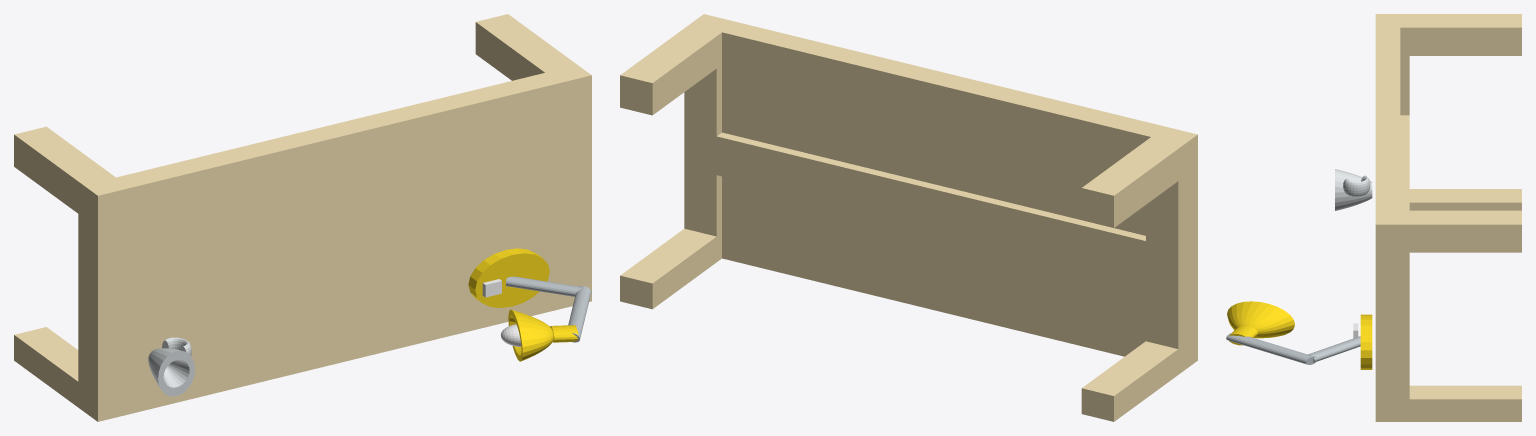
Rendered from tinker.obj.
The picture shows the model from 3 angles, left to right: view 1: azimuth 30°, elevation 25°; view 2: azimuth 150°, elevation 25°; view 3: azimuth 270°, elevation 25°; orthographic projection. The views are drawn at different scales.
Parts seen in each view (by area): view 1: group_0_16311991, group_0_16768282, group_0_14541540, group_0_12568524, group_0_16448250; view 2: group_0_16311991; view 3: group_0_16311991, group_0_16768282, group_0_12568524, group_0_14541540.
Part boxes in pixels (x1=…): group_0_16311991: x1=14, y1=14, x2=591, y2=421; group_0_16768282: x1=468, y1=248, x2=578, y2=361; group_0_14541540: x1=148, y1=337, x2=194, y2=396; group_0_12568524: x1=506, y1=276, x2=591, y2=342; group_0_16448250: x1=482, y1=279, x2=521, y2=346; group_0_16311991: x1=620, y1=14, x2=1197, y2=421; group_0_16311991: x1=1375, y1=14, x2=1521, y2=421; group_0_16768282: x1=1227, y1=301, x2=1372, y2=369; group_0_12568524: x1=1226, y1=332, x2=1360, y2=364; group_0_14541540: x1=1335, y1=169, x2=1372, y2=210.
Size of the model in its own units: 160 by 70 by 95.
